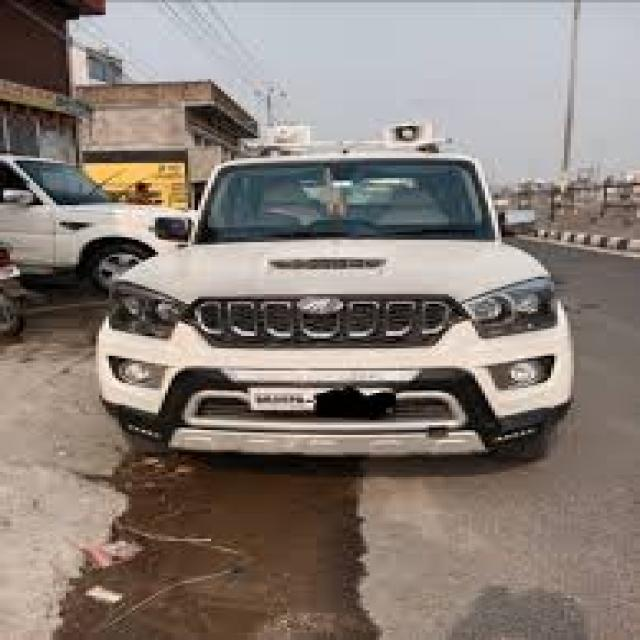Car: (97, 154, 572, 458), (0, 155, 184, 288)
